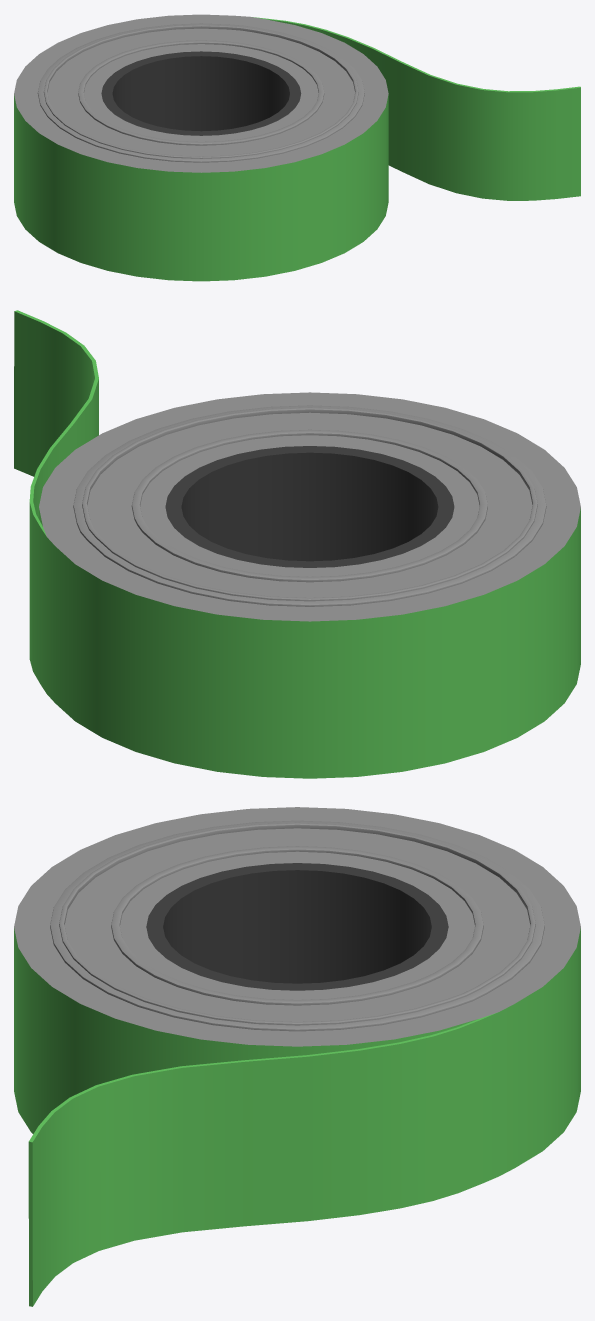
File: TapeRoll.fbx
3 views of the same model, one above another, from view 1: azimuth 30°, elevation 25°; view 2: azimuth 150°, elevation 25°; view 3: azimuth 270°, elevation 25° (orthographic). The views are drawn at different scales.
Visible parts, largest first — view 1: Tube001; view 2: Tube001; view 3: Tube001.
Boxes of the visible parts, x1=… form: Tube001: x1=14, y1=14, x2=580, y2=281; Tube001: x1=14, y1=310, x2=580, y2=778; Tube001: x1=14, y1=807, x2=580, y2=1306.
Bounding box in the file's own units: 21 × 4.91 × 15.
